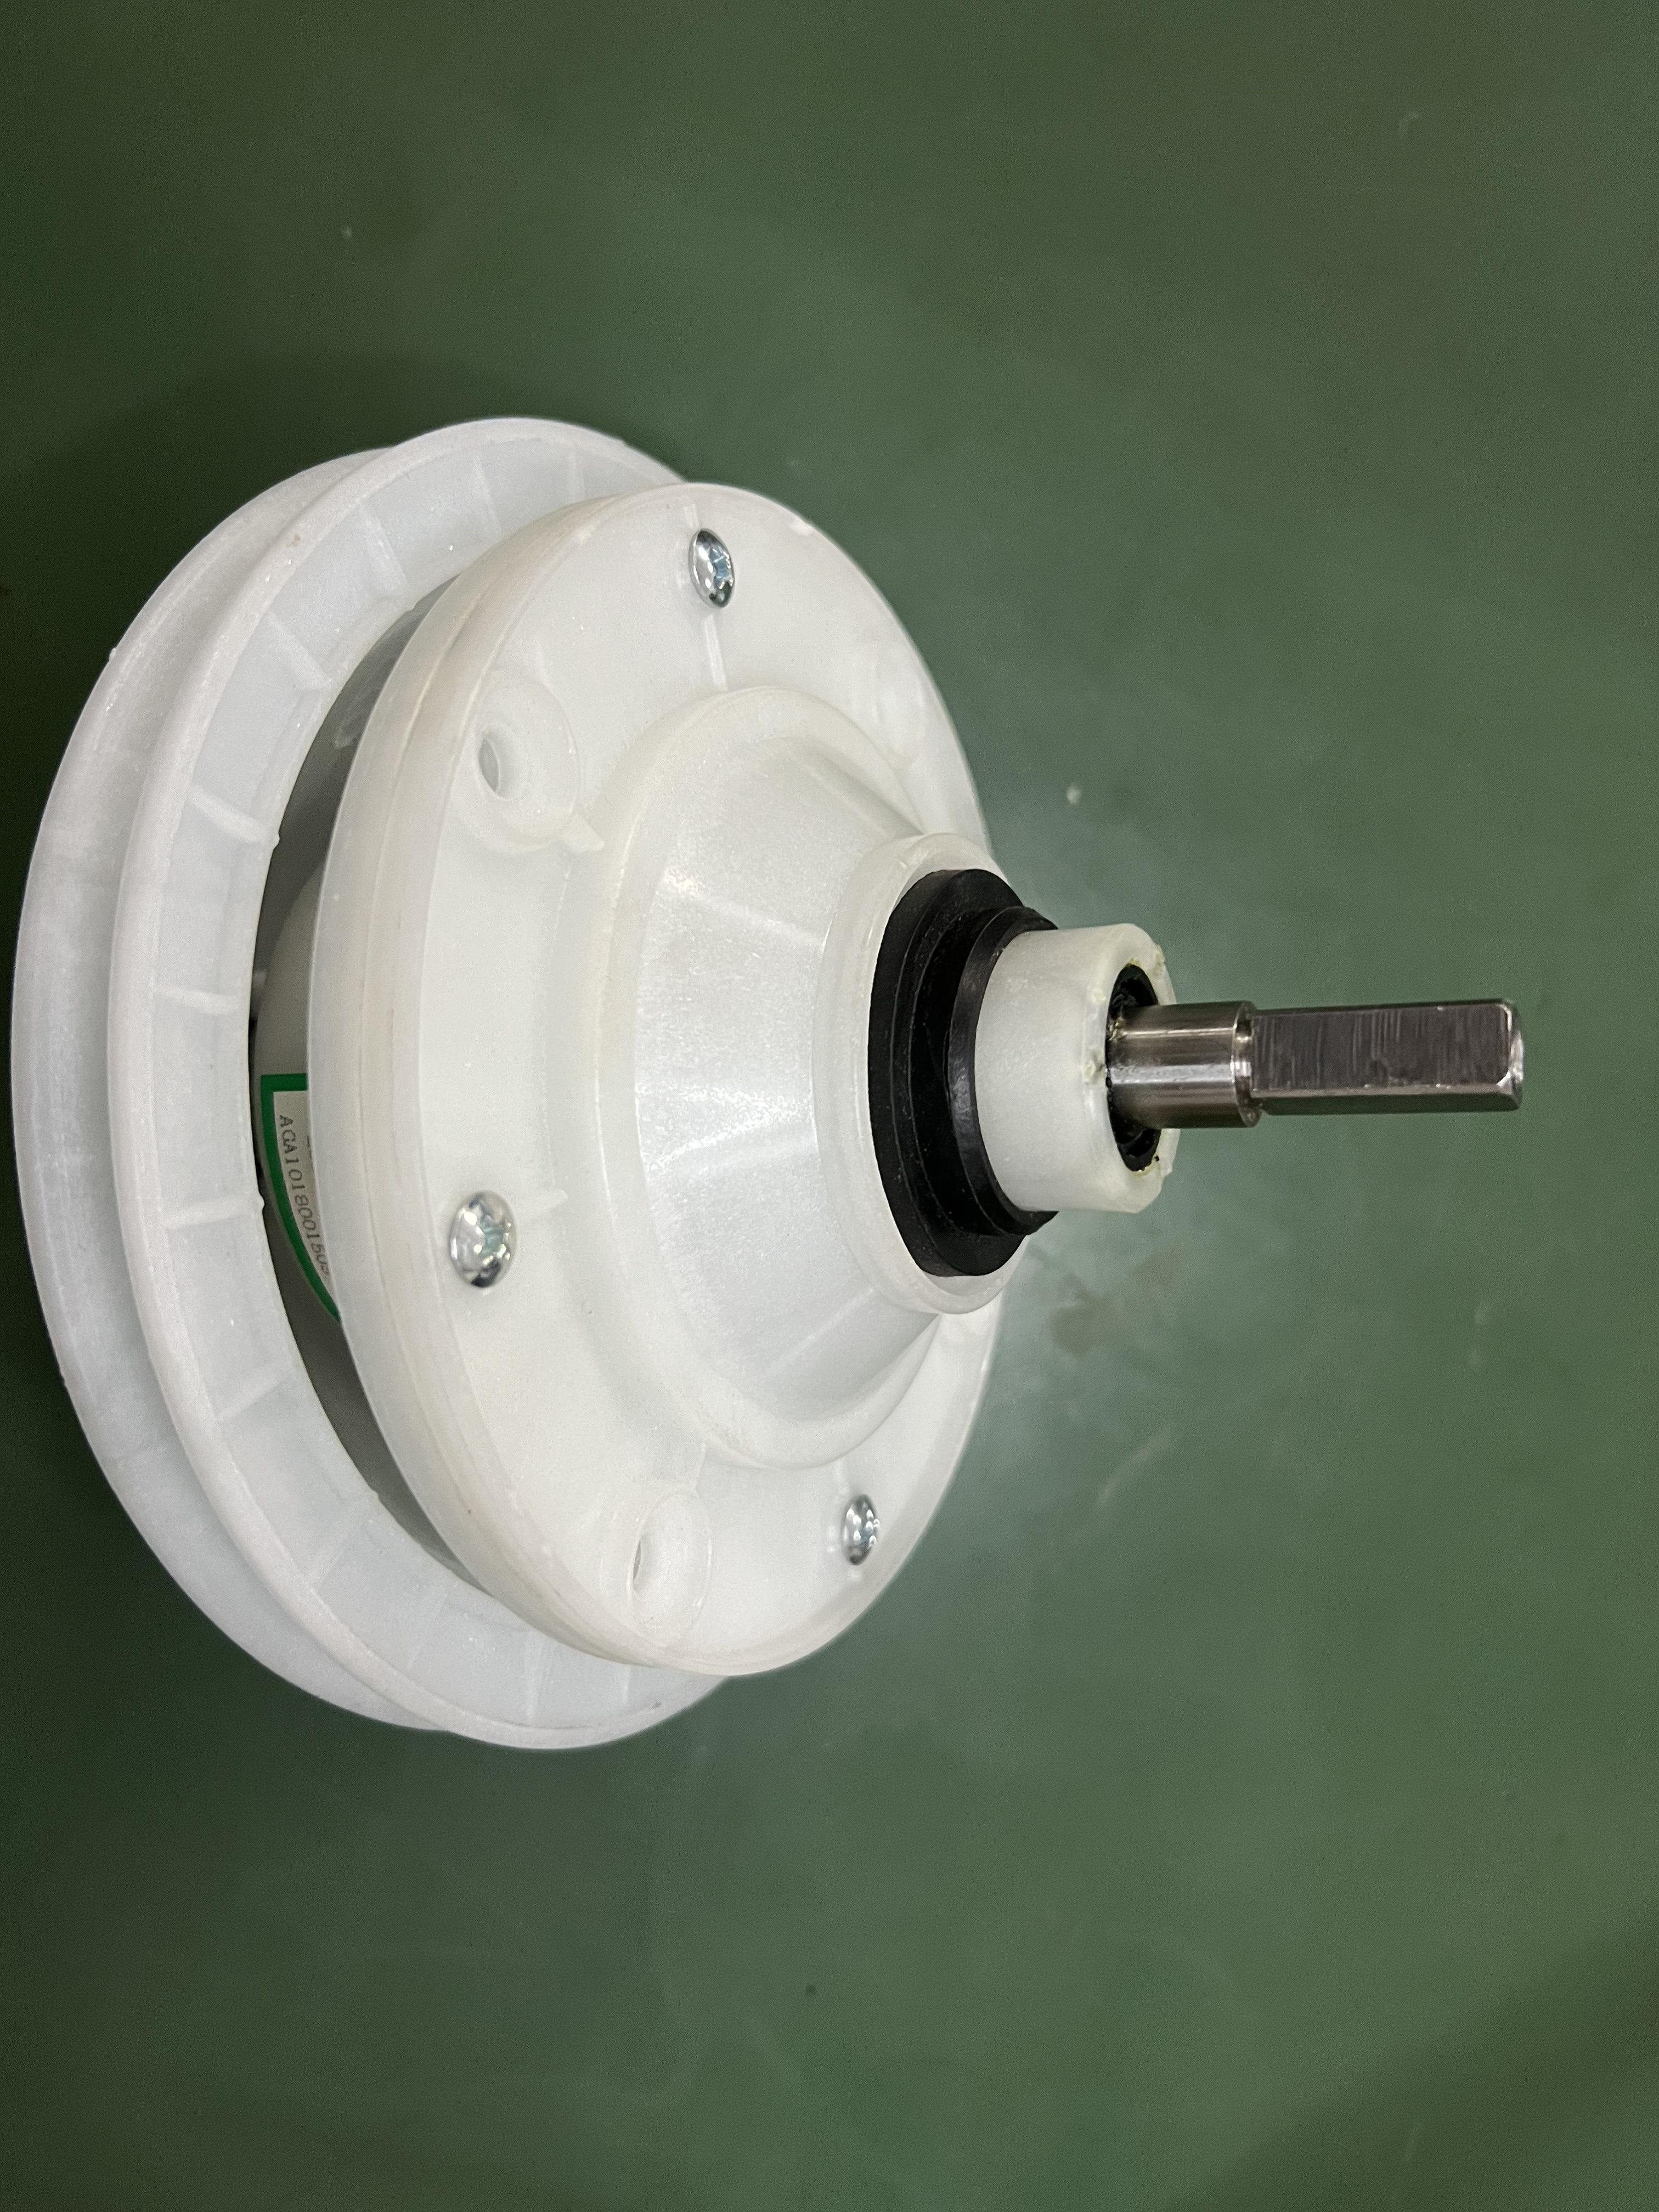gear_box_ovul: (16, 421, 1542, 1763)
